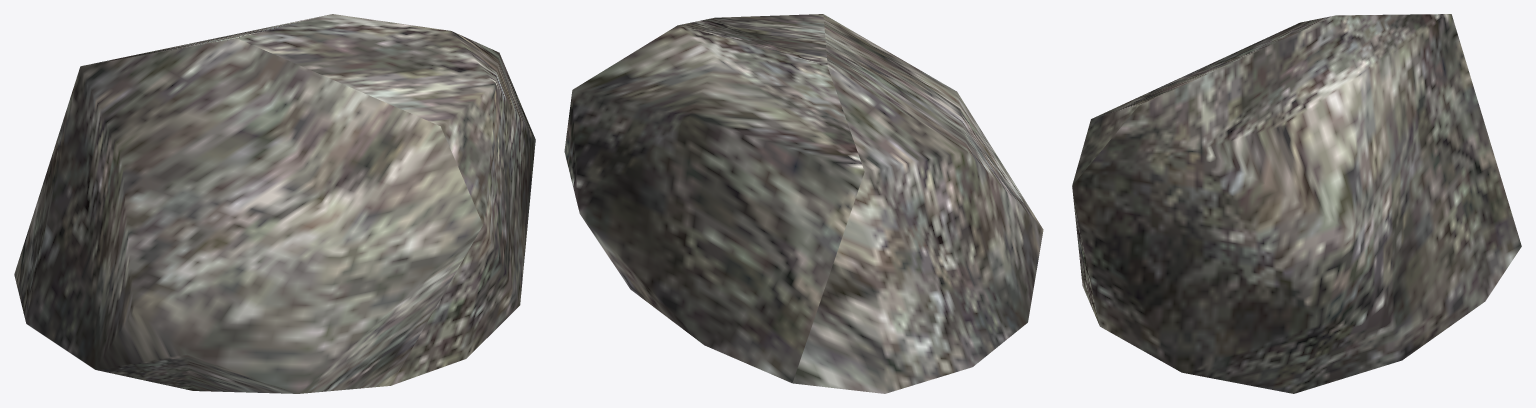
File: wrld_rock_highland_e.glb
3 renders of one model, left to right at view 1: azimuth 30°, elevation 25°; view 2: azimuth 150°, elevation 25°; view 3: azimuth 270°, elevation 25°, orthographic. The views are drawn at different scales.
Parts seen in each view (by area): view 1: wrld_rock_highland_e; view 2: wrld_rock_highland_e; view 3: wrld_rock_highland_e.
Part boxes in pixels (box(x1,y1,x2,y2)): wrld_rock_highland_e: box(14, 14, 535, 393); wrld_rock_highland_e: box(564, 14, 1043, 393); wrld_rock_highland_e: box(1072, 14, 1521, 393).
Bounding box in the file's own units: 1.66 × 0.8657 × 1.37.
1 material, 1 textured.
